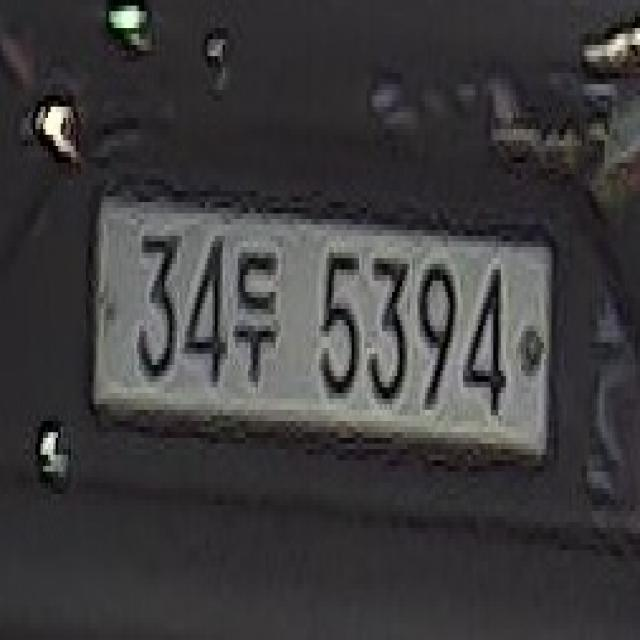3: (367, 247, 410, 410), (136, 219, 180, 376)
4: (177, 230, 228, 382), (460, 264, 506, 415)
5: (316, 247, 362, 404)
9: (415, 258, 455, 416)
du: (230, 247, 281, 387)
license_plate: (89, 185, 554, 472)
